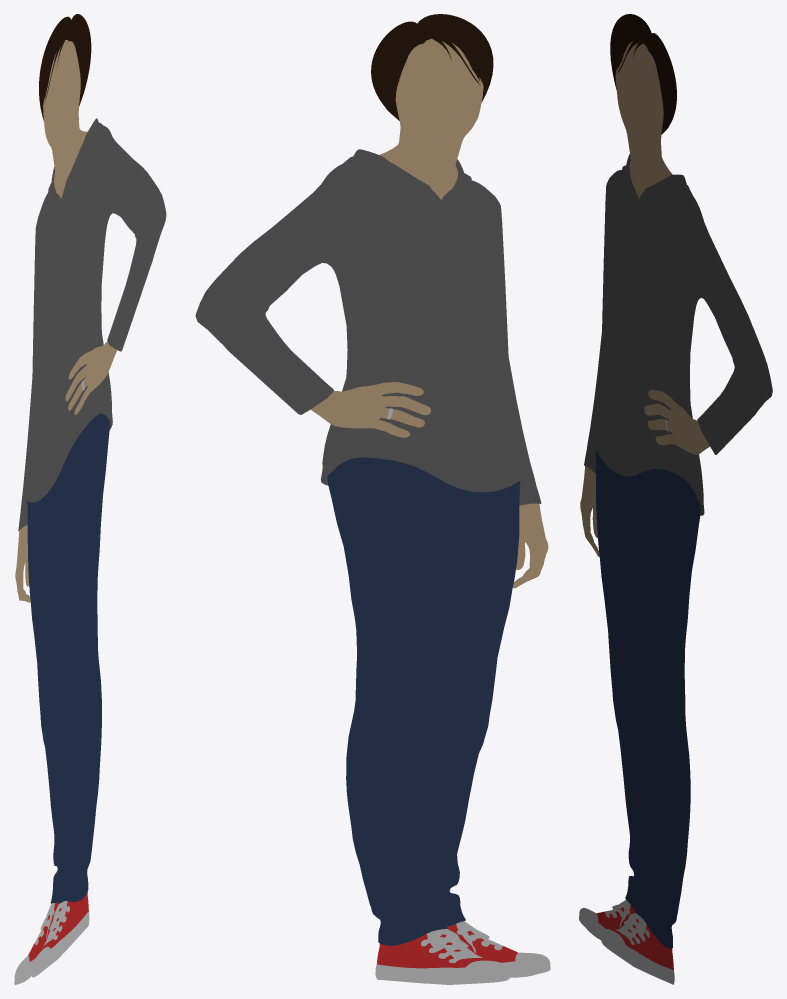
File: operator.fbx
3 views of the same model, side by side, from view 1: azimuth 30°, elevation 25°; view 2: azimuth 150°, elevation 25°; view 3: azimuth 270°, elevation 25° (orthographic). The views are drawn at different scales.
Parts seen in each view (by area): view 1: Stacy1; view 2: Stacy1; view 3: Stacy1.
Boxes of the visible parts, x1,y1,x2,y2 form: Stacy1: [14, 14, 166, 984]; Stacy1: [195, 14, 550, 984]; Stacy1: [579, 14, 772, 984].
Bounding box in the file's own units: 18.11 × 65.57 × 12.08.
